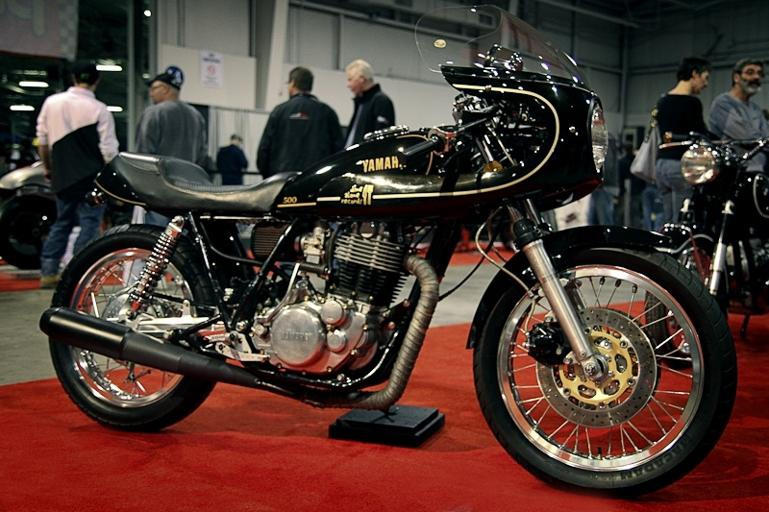non-vehicle: (39, 2, 739, 496), (641, 125, 769, 370), (0, 155, 133, 272)
